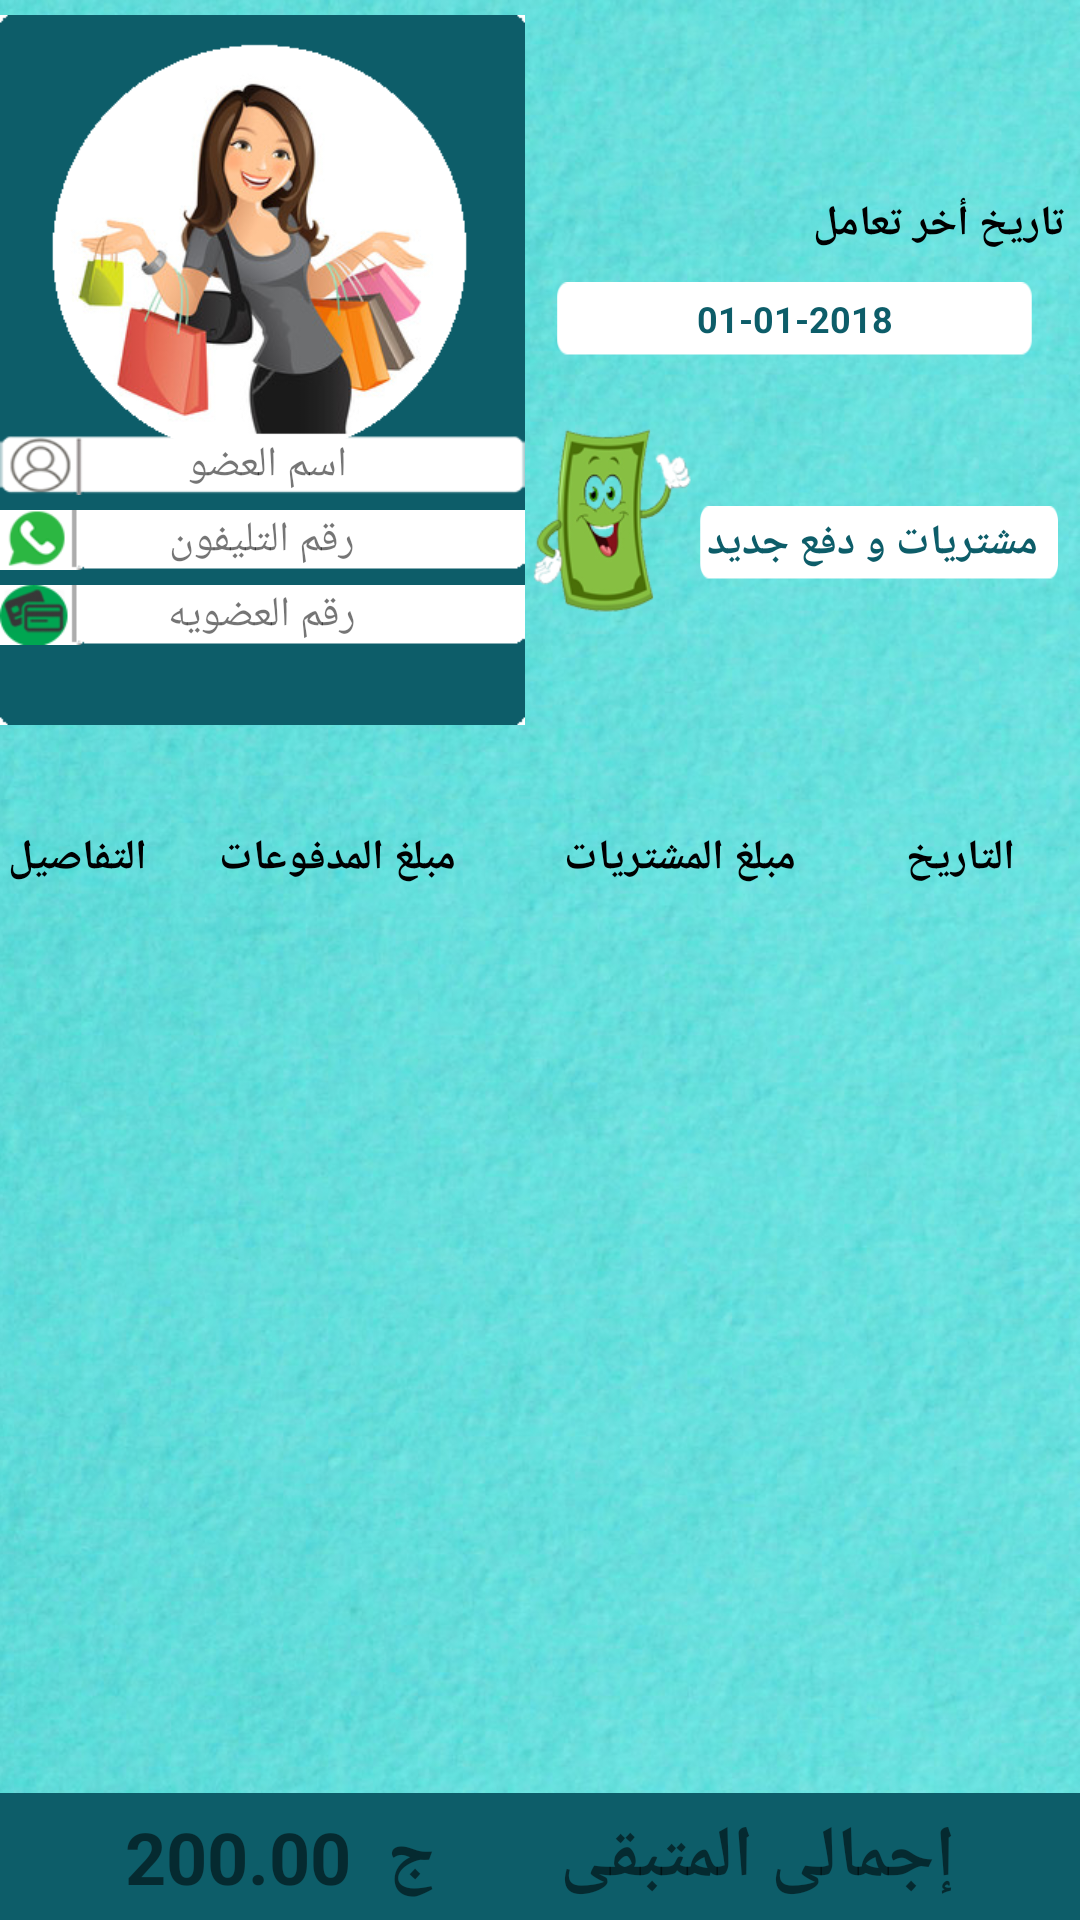

Icon click points for this 1080px×1920px phone screenshot, format (x=x, y=y):
cash: (x=612, y=521)
